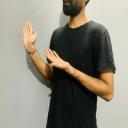hand: (44, 47, 68, 69), (22, 23, 36, 53)
